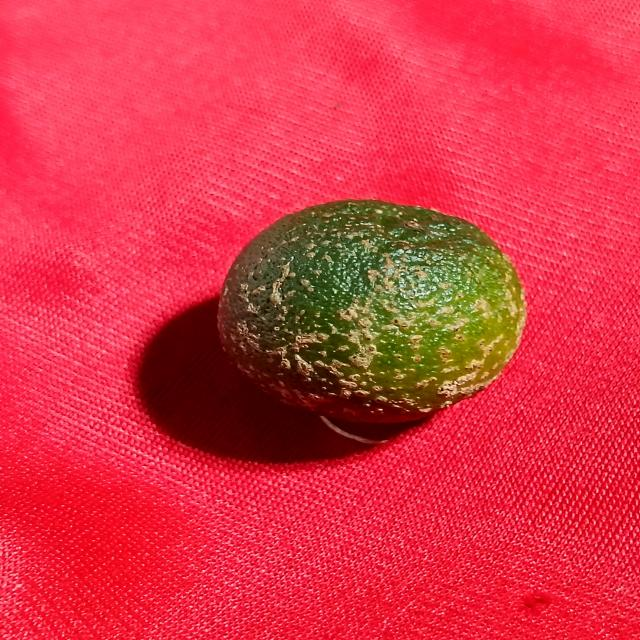scab: (227, 198, 527, 420)
